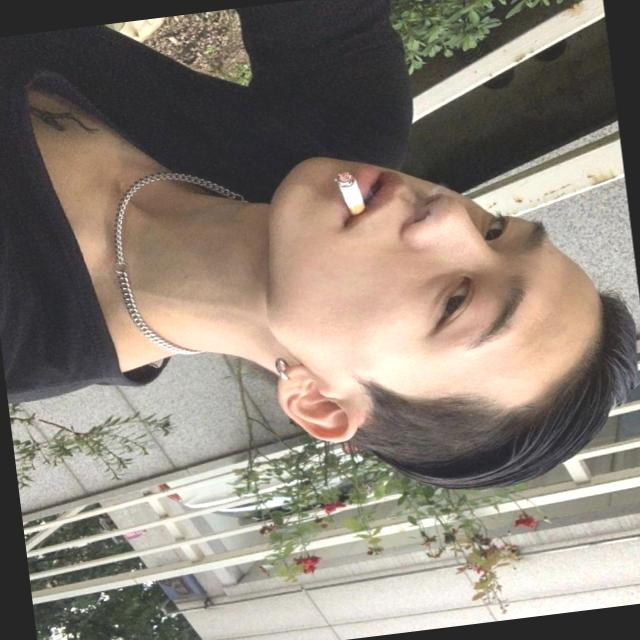cigarette: (331, 157, 394, 236)
